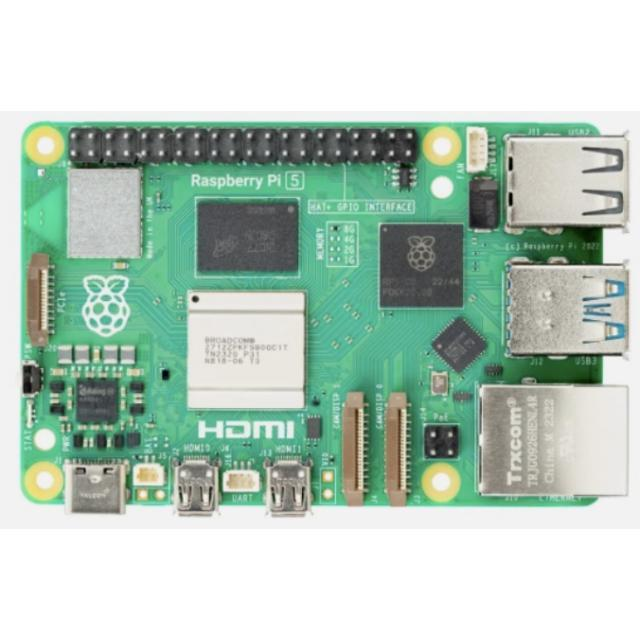Raspberry-Pi-5: (22, 117, 630, 517)
